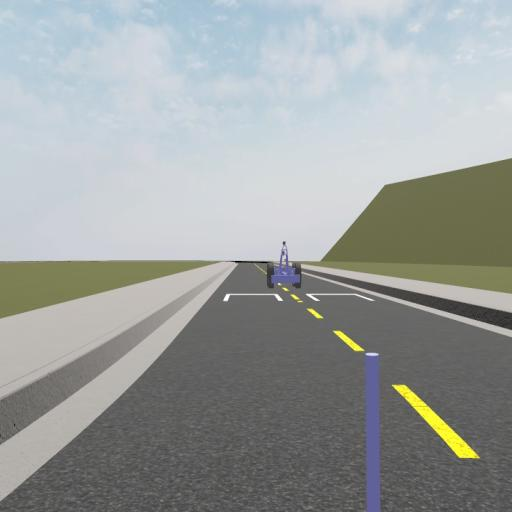ERP-42: (267, 244, 302, 288)
